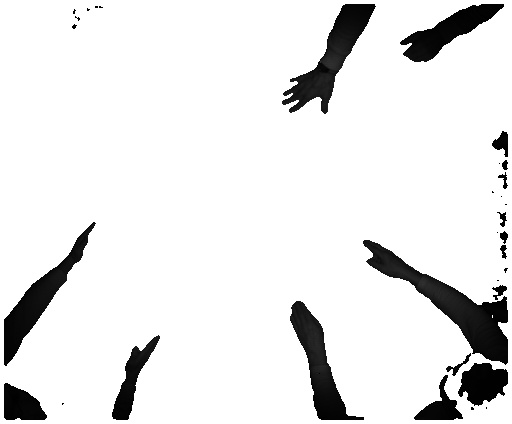hand: (280, 67, 338, 119), (288, 296, 327, 355), (360, 240, 414, 281), (400, 31, 443, 63)
spine: (64, 216, 95, 272), (126, 328, 159, 380)
